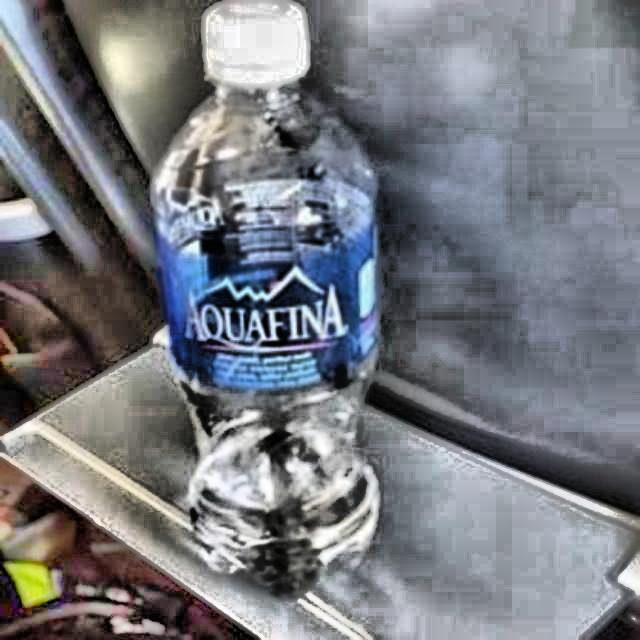Bottles: (142, 0, 389, 606)
